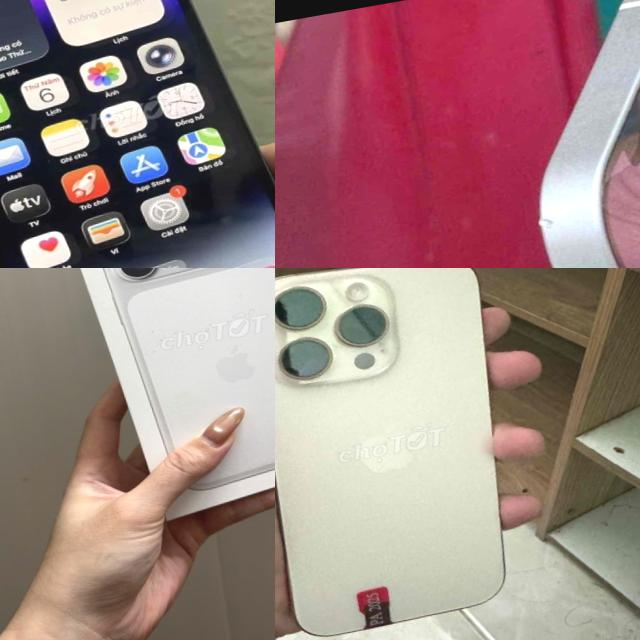gen_12_13: (496, 0, 640, 268)
gen_14: (0, 0, 275, 268)
gen_16: (275, 268, 504, 636)
gen_17: (82, 268, 275, 507)
